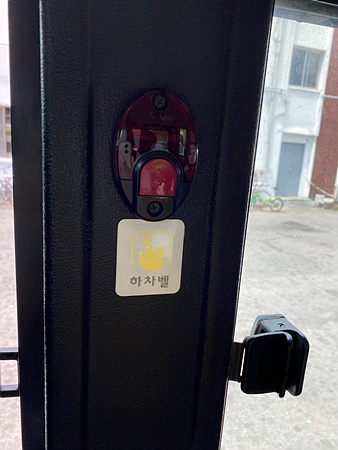bell: (115, 88, 197, 222)
